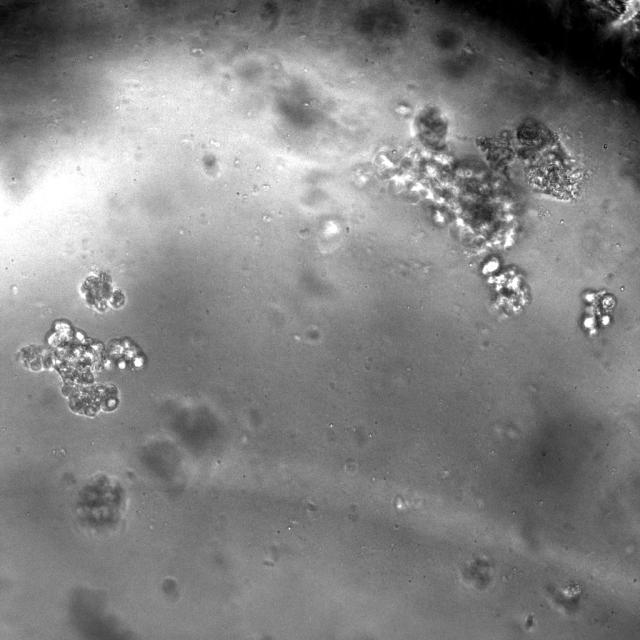organoid: (362, 105, 522, 254), (15, 319, 147, 419), (476, 118, 582, 200), (480, 254, 531, 317), (76, 473, 124, 530), (79, 263, 127, 313), (581, 289, 616, 335)
